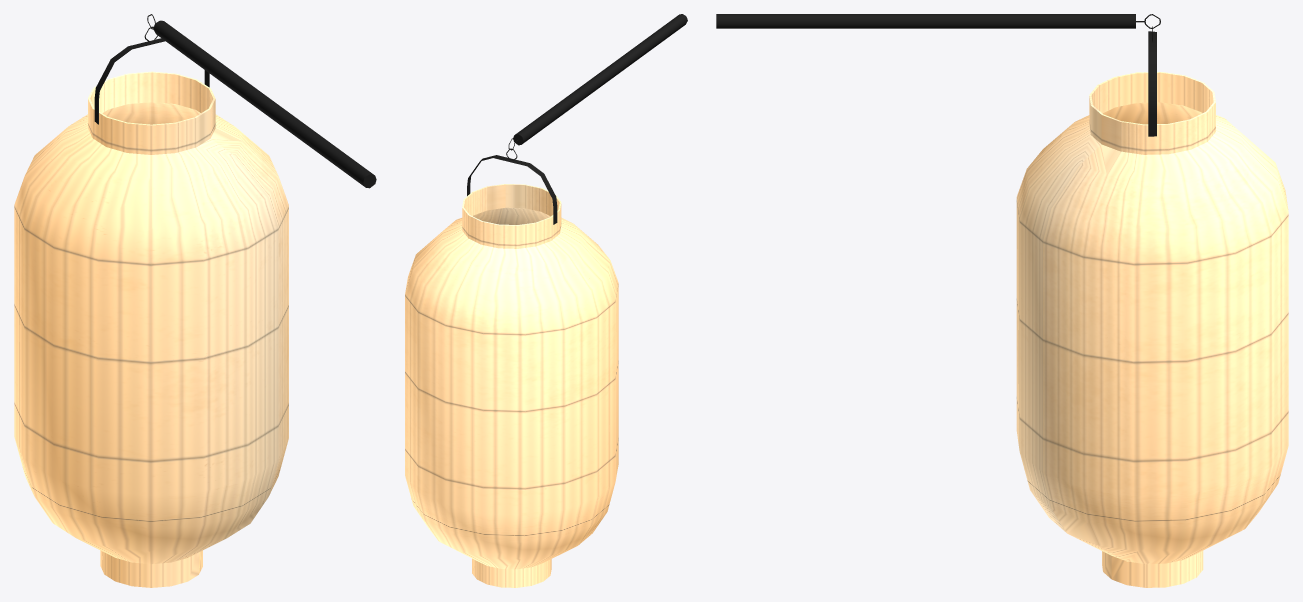
File: NNJ0310012.fbx
3 renders of one model, left to right at view 1: azimuth 30°, elevation 25°; view 2: azimuth 150°, elevation 25°; view 3: azimuth 270°, elevation 25°, orthographic. The views are drawn at different scales.
Parts seen in each view (by area): view 1: smNNJ0310012; view 2: smNNJ0310012; view 3: smNNJ0310012.
Part boxes in pixels (x1,y1,x2,y2): smNNJ0310012: [14, 14, 376, 587]; smNNJ0310012: [405, 14, 687, 587]; smNNJ0310012: [716, 14, 1288, 587].
Bounding box in the file's own units: 35.74 × 80.02 × 75.16.
Materials: 1 (1 with a texture image).
